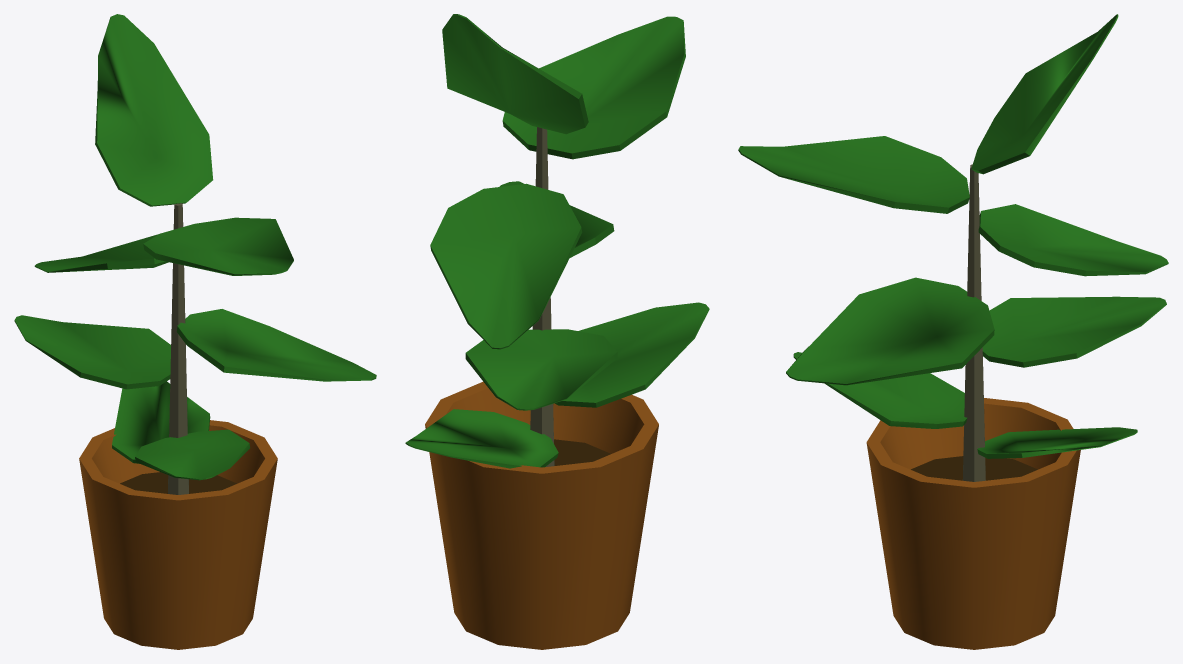
Rendered from Planta.fbx.
The picture shows the model from 3 angles, left to right: view 1: azimuth 30°, elevation 25°; view 2: azimuth 150°, elevation 25°; view 3: azimuth 270°, elevation 25°; orthographic projection. The views are drawn at different scales.
Parts seen in each view (by area): view 1: pCylinder1; view 2: pCylinder1; view 3: pCylinder1.
Boxes of the visible parts, left/top/right/bottom form: pCylinder1: left=14, top=14, right=376, bottom=649; pCylinder1: left=405, top=14, right=709, bottom=649; pCylinder1: left=738, top=14, right=1168, bottom=649.
Bounding box in the file's own units: 266 × 694 × 450.
